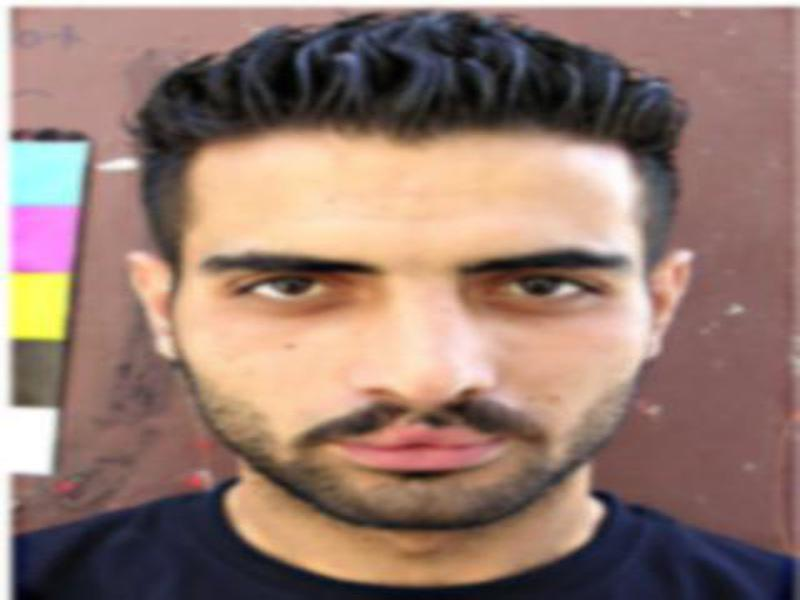without_mask: (178, 159, 653, 538)
